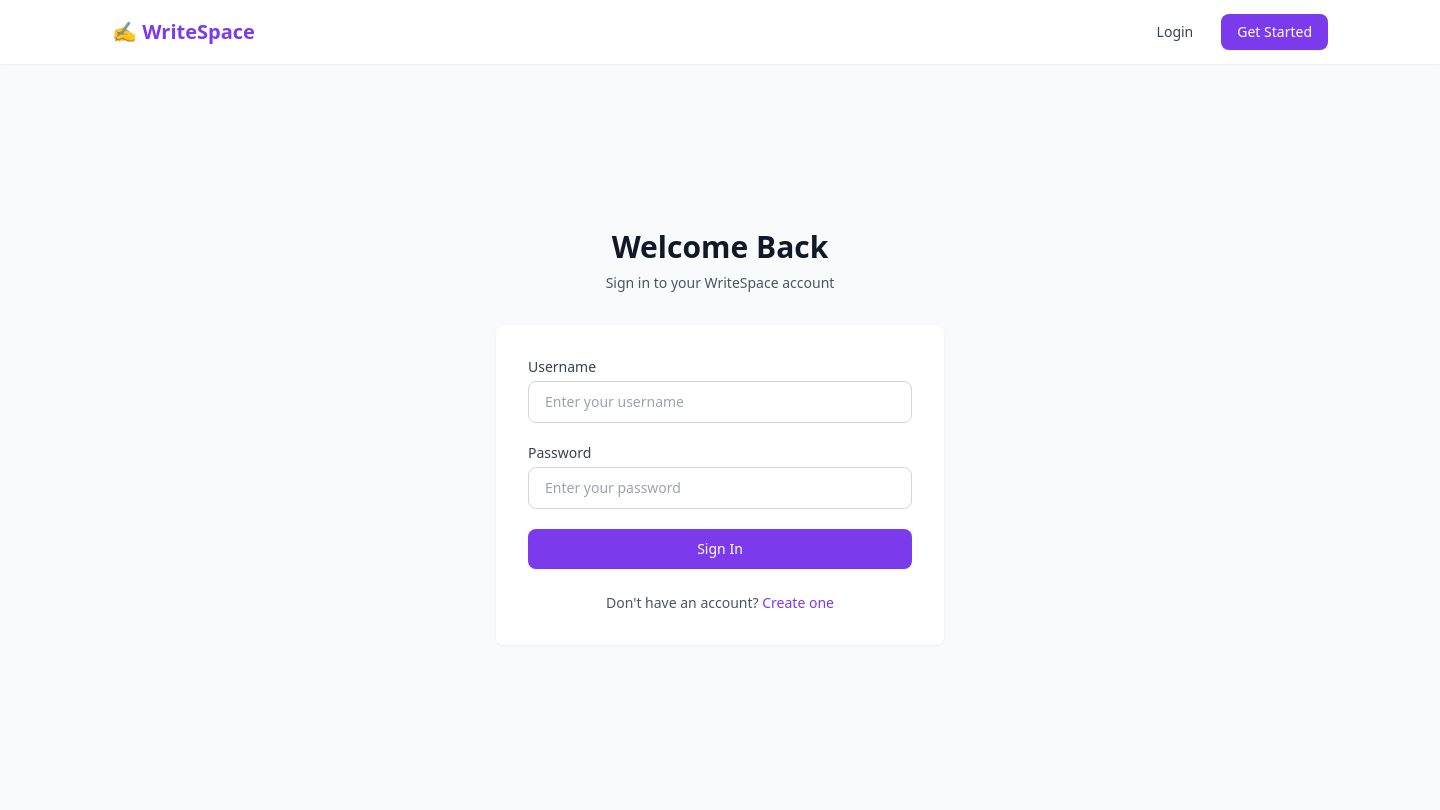
App › Login Page › shows error for empty submission
The width and height of the screenshot is (1440, 810).
Step 1. Click the button "Sign In" → x=720, y=549, box [528,529,912,569]
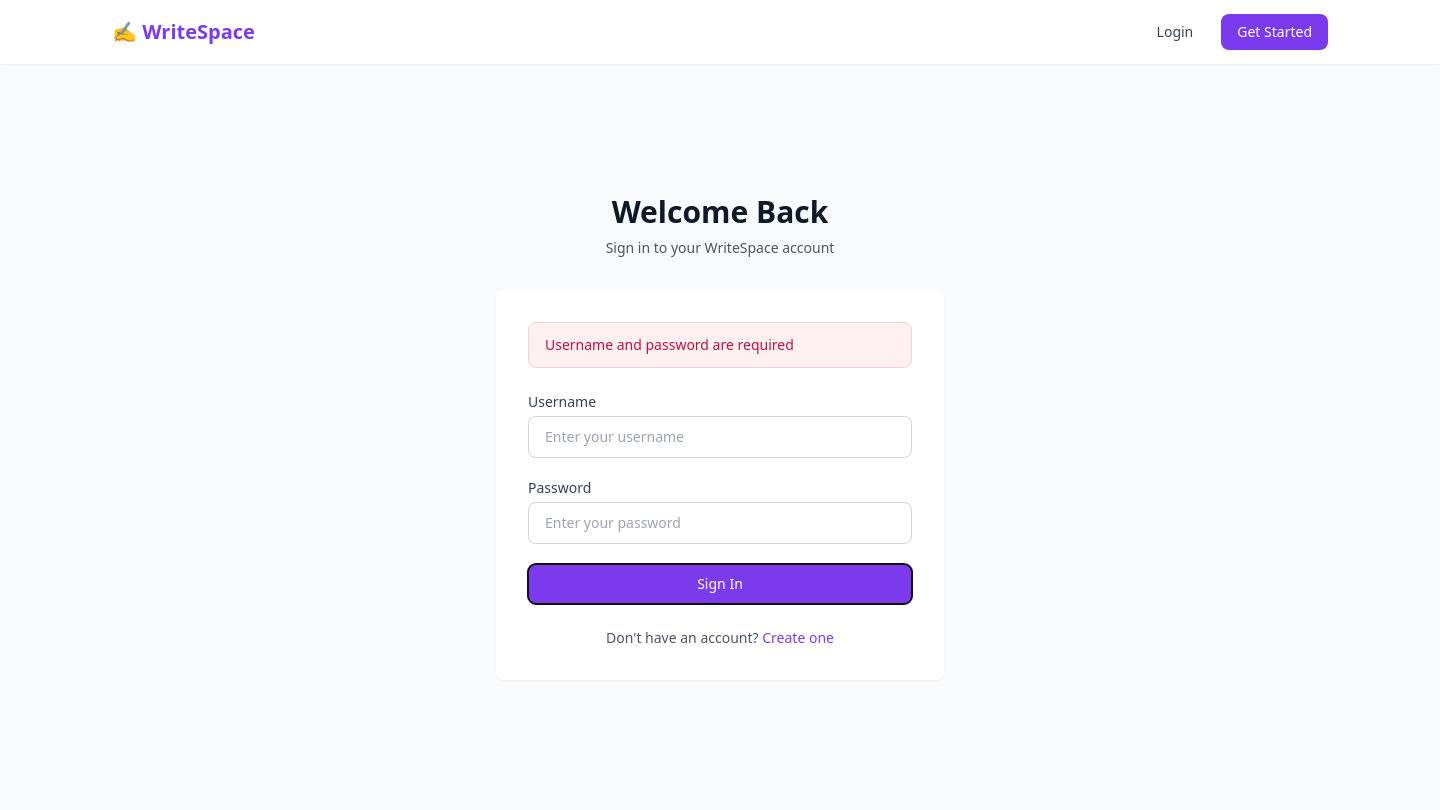
Check: the text "Username and password are required" is shown, box [528,322,912,368]
